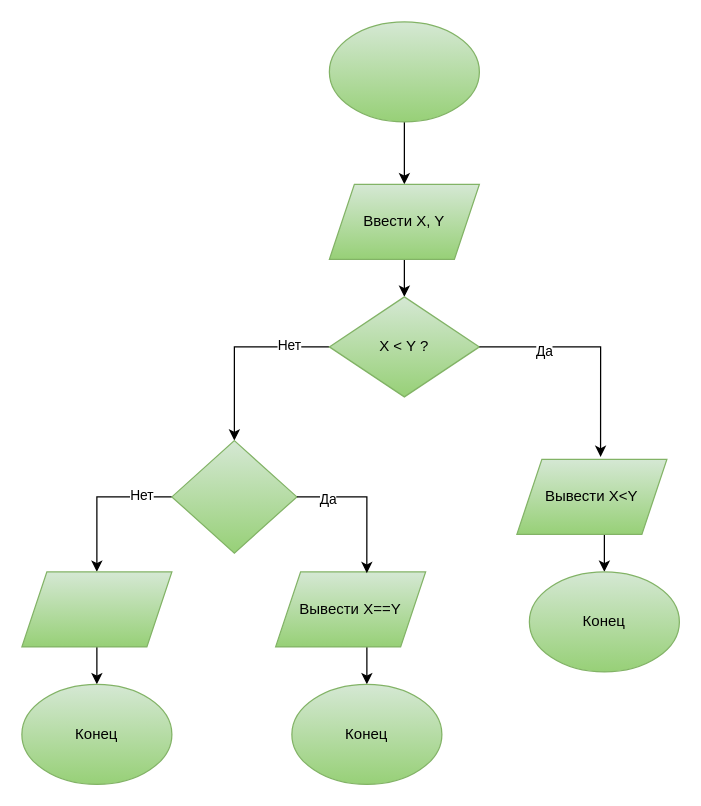
Image size: 701x806. Some labels were removed from this diagram. The shapes that lost their labels are listed below. From the top down, each one's box as (x1, y1, x2, y2) in pixels, then its label:
(328, 21, 479, 122): Начало
(171, 439, 297, 553): X == Y ?
(21, 571, 172, 647): Вывести X>Y
